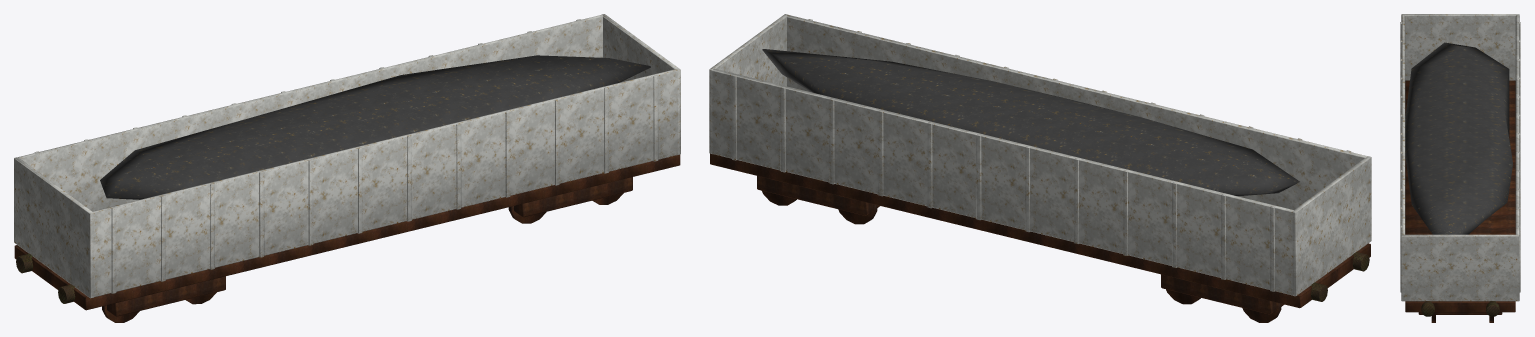
Rendered from veh_wagon_gondola.gltf.
3 views of the same model, side by side, from view 1: azimuth 30°, elevation 25°; view 2: azimuth 150°, elevation 25°; view 3: azimuth 270°, elevation 25° (orthographic). The views are drawn at different scales.
Parts seen in each view (by area): view 1: box.003, blob, box.016, box.002, box.029, box.030, box, box.001, box.004, box.011, box.015, box.007 (+2 smaller); view 2: box.016, blob, box.003, box.002, box.029, box.030, box, box.001, box.024, box.023, box.025, box.026 (+1 smaller); view 3: blob, box.030, box.029, box.002, box.003, box.016, cyl.010, cyl.011, box.001, box.015, box.028.
Part boxes in pixels (<box>): box.003: <box>92,69,677,297</box>; blob: <box>100,55,650,199</box>; box.016: <box>18,15,602,211</box>; box.002: <box>14,154,680,310</box>; box.029: <box>14,157,93,298</box>; box.030: <box>601,14,680,155</box>; box: <box>107,276,225,316</box>; box.001: <box>514,177,632,217</box>; box.004: <box>111,207,116,293</box>; box.011: <box>456,123,461,209</box>; box.015: <box>653,75,658,161</box>; box.007: <box>259,171,264,257</box>; box.016: <box>712,68,1293,295</box>; blob: <box>762,49,1299,196</box>; box.003: <box>787,15,1367,209</box>; box.002: <box>710,153,1370,308</box>; box.029: <box>1292,156,1371,296</box>; box.030: <box>709,14,788,154</box>; box: <box>1161,274,1284,314</box>; box.001: <box>757,176,879,215</box>; box.024: <box>927,122,932,208</box>; box.023: <box>976,134,981,220</box>; box.025: <box>878,110,883,196</box>; box.026: <box>829,98,834,184</box>; blob: <box>1405,42,1512,234</box>; box.030: <box>1401,234,1519,301</box>; box.029: <box>1401,14,1519,80</box>; box.002: <box>1405,80,1515,312</box>; box.003: <box>1401,15,1405,234</box>; box.016: <box>1515,15,1519,234</box>; cyl.010: <box>1421,301,1434,316</box>; cyl.011: <box>1486,301,1499,316</box>; box.001: <box>1418,312,1502,314</box>; box.015: <box>1400,225,1402,292</box>; box.028: <box>1518,225,1520,292</box>.
Size of the model in its own units: 14.3 by 3.05 by 3.15.
Materials: 4 (4 with a texture image).
